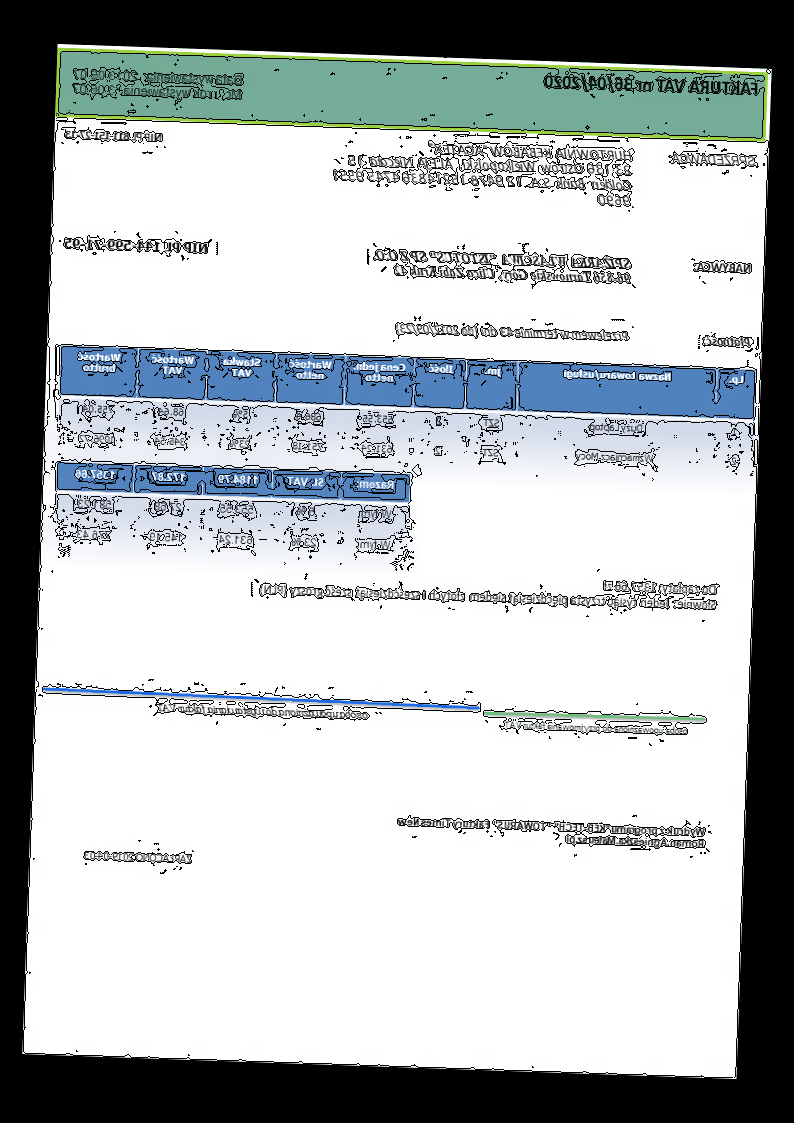Table: (56, 343, 758, 482), (53, 462, 412, 565)
TextBox: (258, 566, 720, 617), (330, 136, 636, 211), (394, 814, 707, 851), (371, 246, 634, 287), (69, 66, 247, 105), (542, 71, 761, 99), (395, 320, 632, 344), (154, 699, 371, 723), (502, 719, 689, 737), (64, 236, 211, 256), (82, 847, 195, 866), (668, 147, 758, 168), (63, 127, 165, 144), (691, 259, 754, 275), (701, 332, 753, 350)
